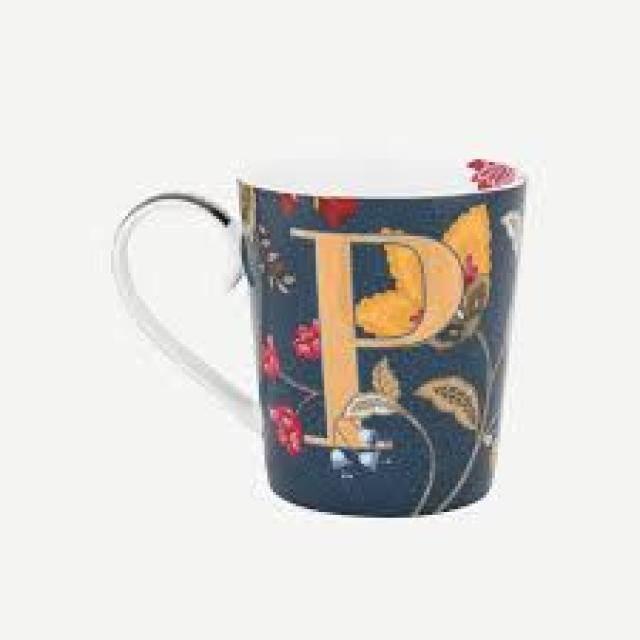taza: (110, 155, 526, 520)
